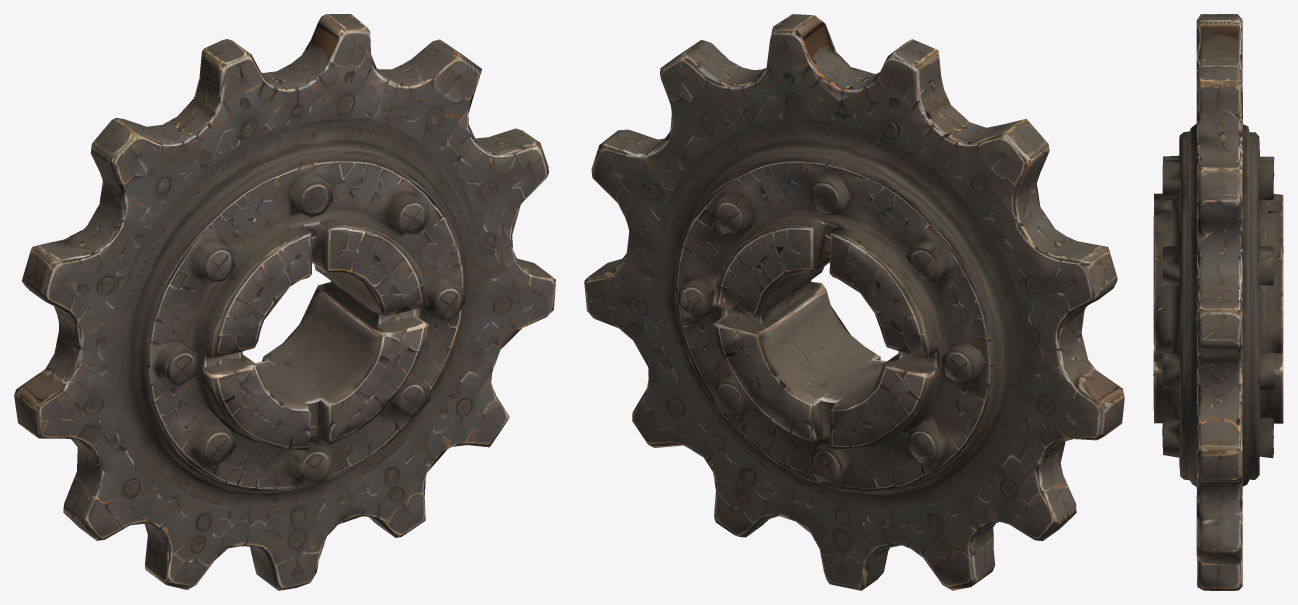
File: IA_Shared_Gear_A1.fbx
3 renders of one model, left to right at view 1: azimuth 30°, elevation 25°; view 2: azimuth 150°, elevation 25°; view 3: azimuth 270°, elevation 25°, orthographic. The views are drawn at different scales.
Visible parts, largest first — view 1: tripo_node_b7d6146a; view 2: tripo_node_b7d6146a; view 3: tripo_node_b7d6146a.
Boxes of the visible parts, x1=… form: tripo_node_b7d6146a: x1=14, y1=14, x2=555, y2=590; tripo_node_b7d6146a: x1=584, y1=14, x2=1124, y2=590; tripo_node_b7d6146a: x1=1153, y1=14, x2=1283, y2=590.
Bounding box in the file's own units: 1 × 0.9996 × 0.2259.
